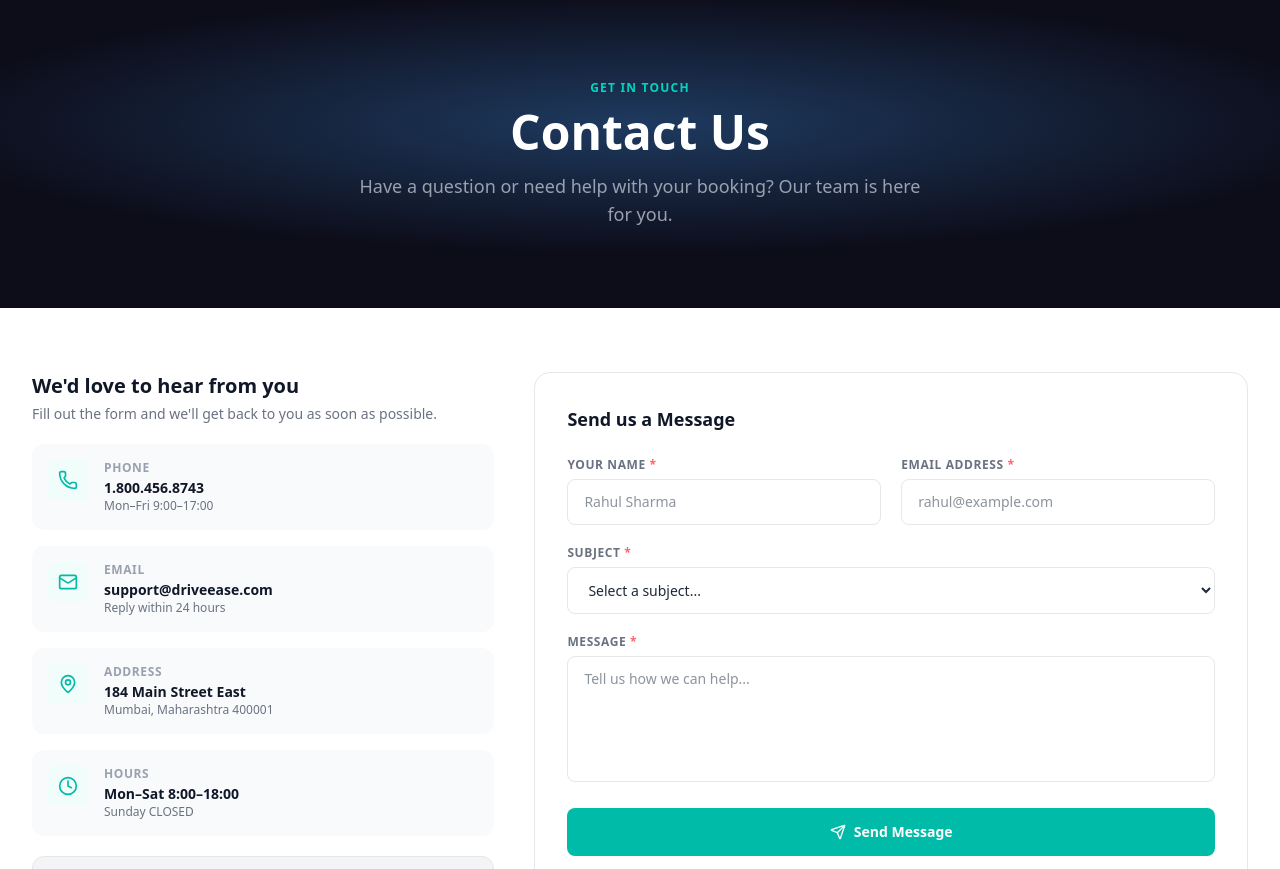
Contact page › shows validation error when email is empty
// Name filled, email left empty → expects "Email is required"
In the field with placeholder "Rahul Sharma": (724, 502) [567,479,881,525], type "Bob"
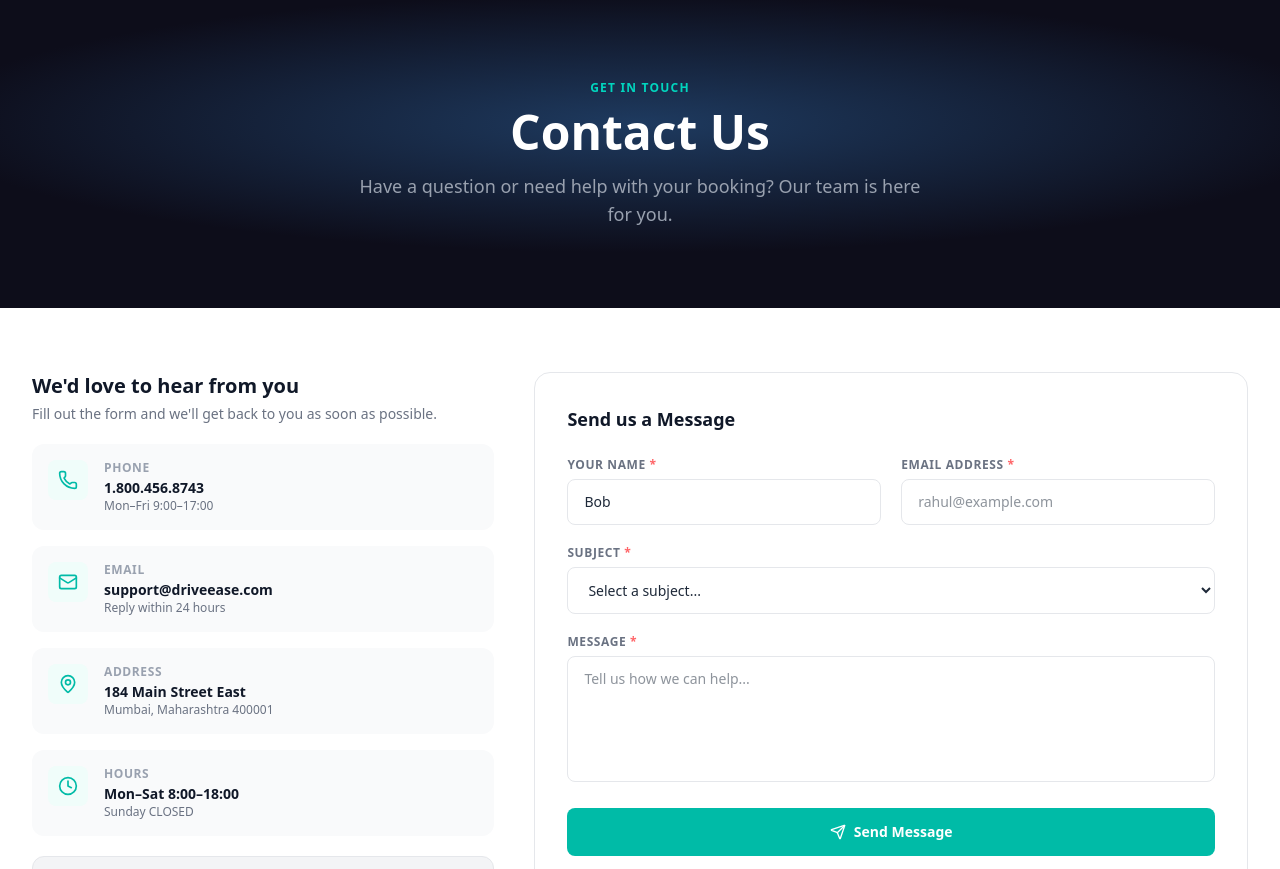
Click the button "Send Message": (891, 832) [567,808,1215,856]
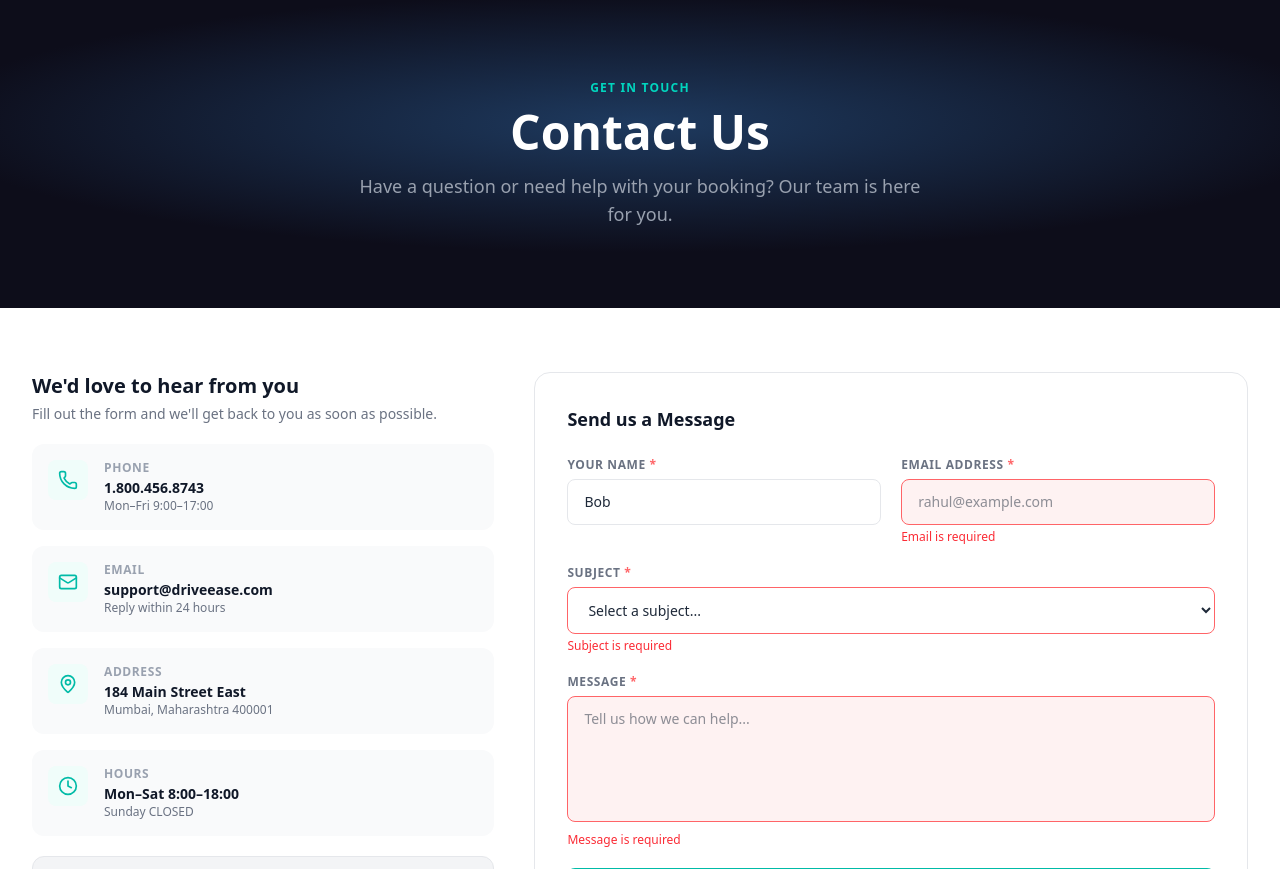
Expected: the text "Email is required" is shown, [901,528,995,545]
